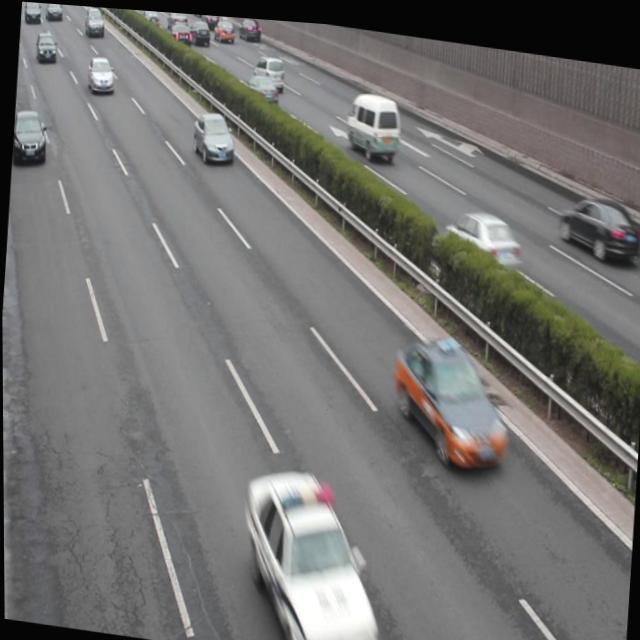car: (234, 457, 387, 640), (389, 319, 512, 468), (554, 183, 635, 256), (442, 201, 520, 271), (190, 105, 235, 167), (11, 107, 49, 169), (239, 68, 278, 108), (251, 50, 284, 89)
truck: (343, 83, 401, 157)
